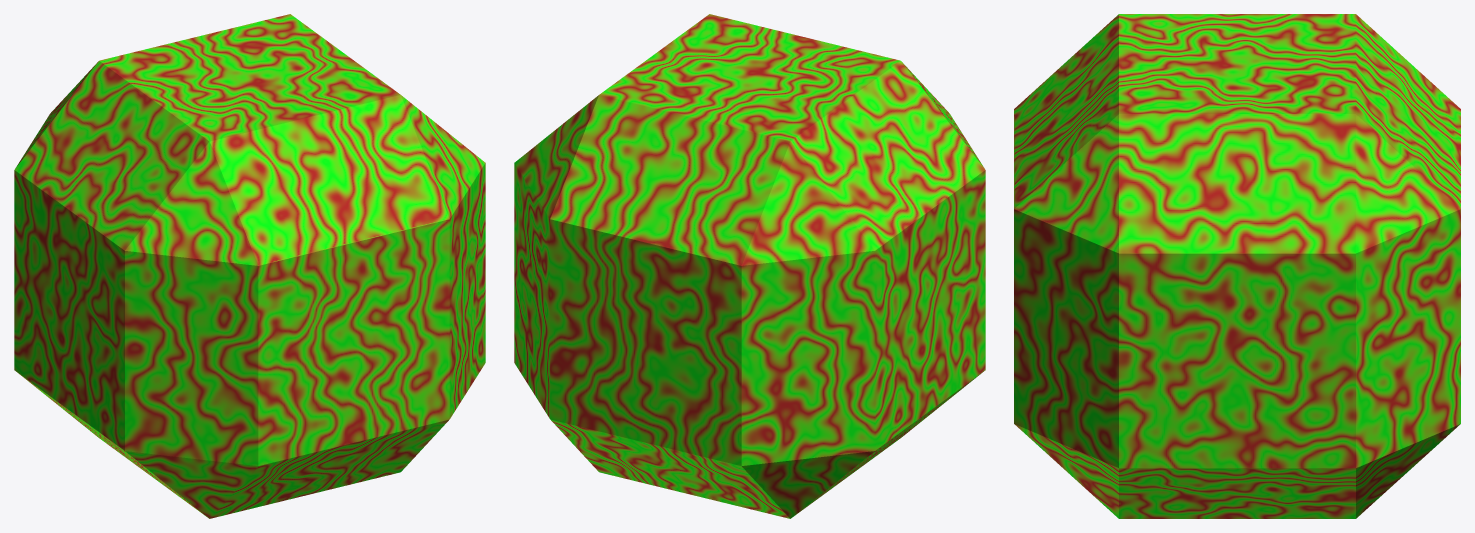
The model's file is helloworld.glb.
The picture shows the model from 3 angles, left to right: view 1: azimuth 30°, elevation 25°; view 2: azimuth 150°, elevation 25°; view 3: azimuth 270°, elevation 25°; orthographic projection. The views are drawn at different scales.
Visible parts, largest first — view 1: Cube; view 2: Cube; view 3: Cube.
Boxes of the visible parts, x1,y1,x2,y2 form: Cube: (14, 14, 485, 518); Cube: (514, 14, 985, 518); Cube: (1014, 14, 1460, 518).
Bounding box in the file's own units: 2 × 2 × 2.
1 material, 1 textured.
